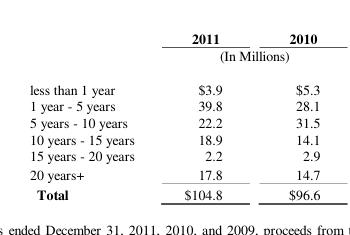table: (28, 28, 319, 203)
table column: (28, 28, 158, 203), (158, 28, 254, 203), (254, 28, 319, 203)
table column header: (28, 28, 319, 71)
table row: (28, 46, 319, 71), (28, 71, 319, 96), (28, 183, 319, 203), (28, 164, 319, 183), (28, 28, 319, 46), (28, 146, 319, 164), (28, 96, 319, 113), (28, 129, 319, 146), (28, 113, 319, 129)
table spanning cell: (158, 46, 319, 71)
